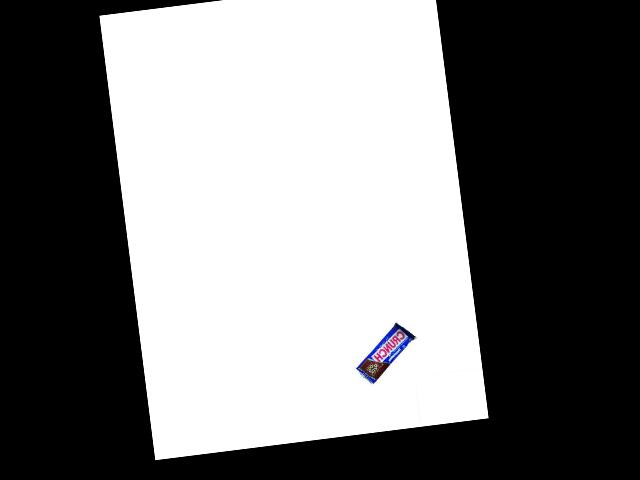chocolate: (349, 319, 422, 387)
